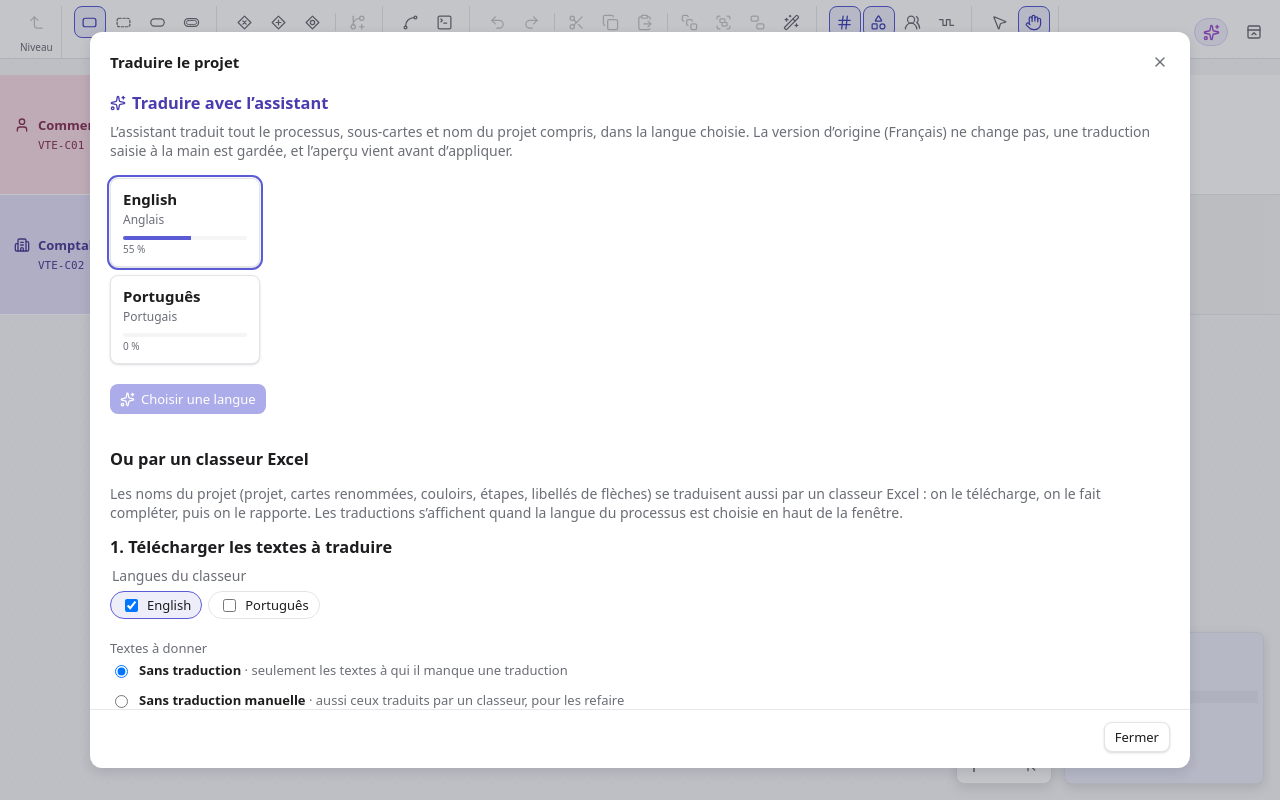
Scenario: a translation by the assistant (ADR 083) › asked into Portuguese from the dialog, previewed and applied with its language on the root map, then the process is shown in Portuguese
Click the radio button with test id "translations-assistant-pt" at (185, 320), box x1=110 y1=275 x2=260 y2=364
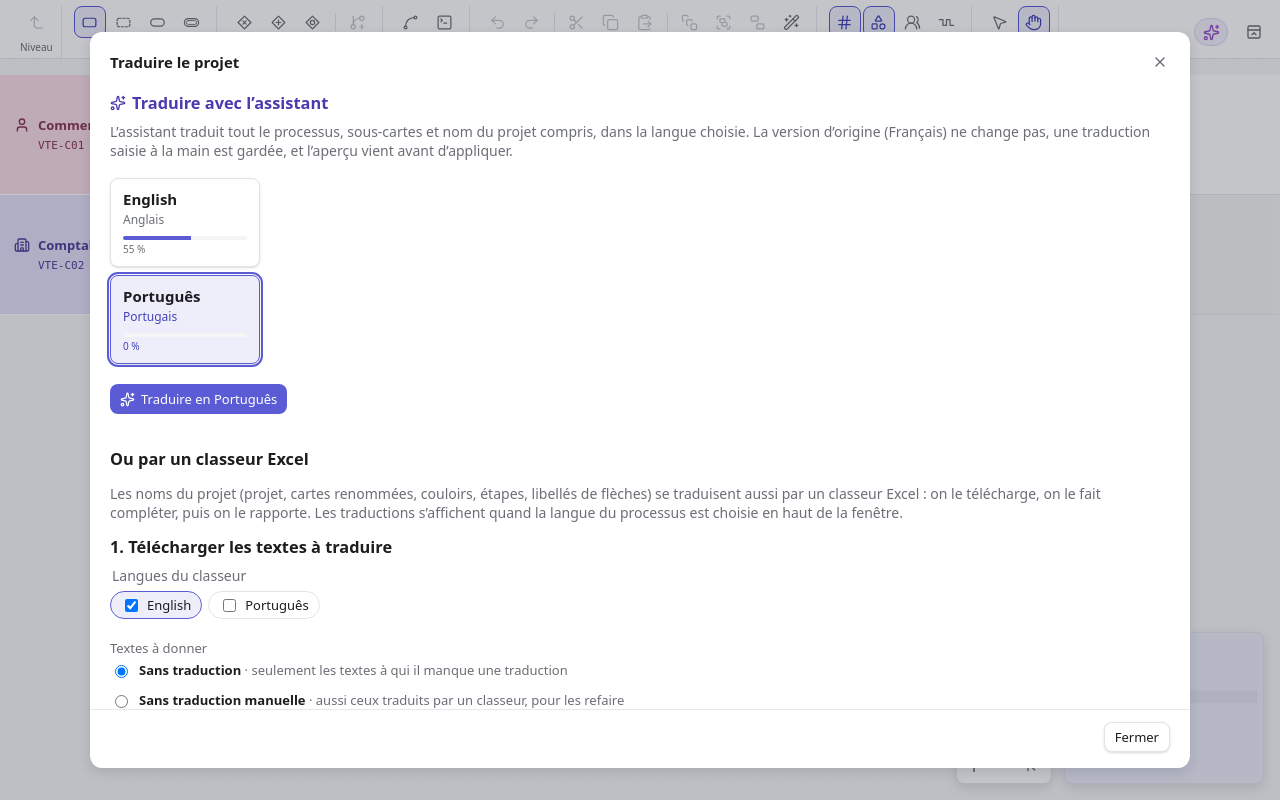
Click the button "Traduire en Português" at (199, 399), box x1=110 y1=384 x2=287 y2=414
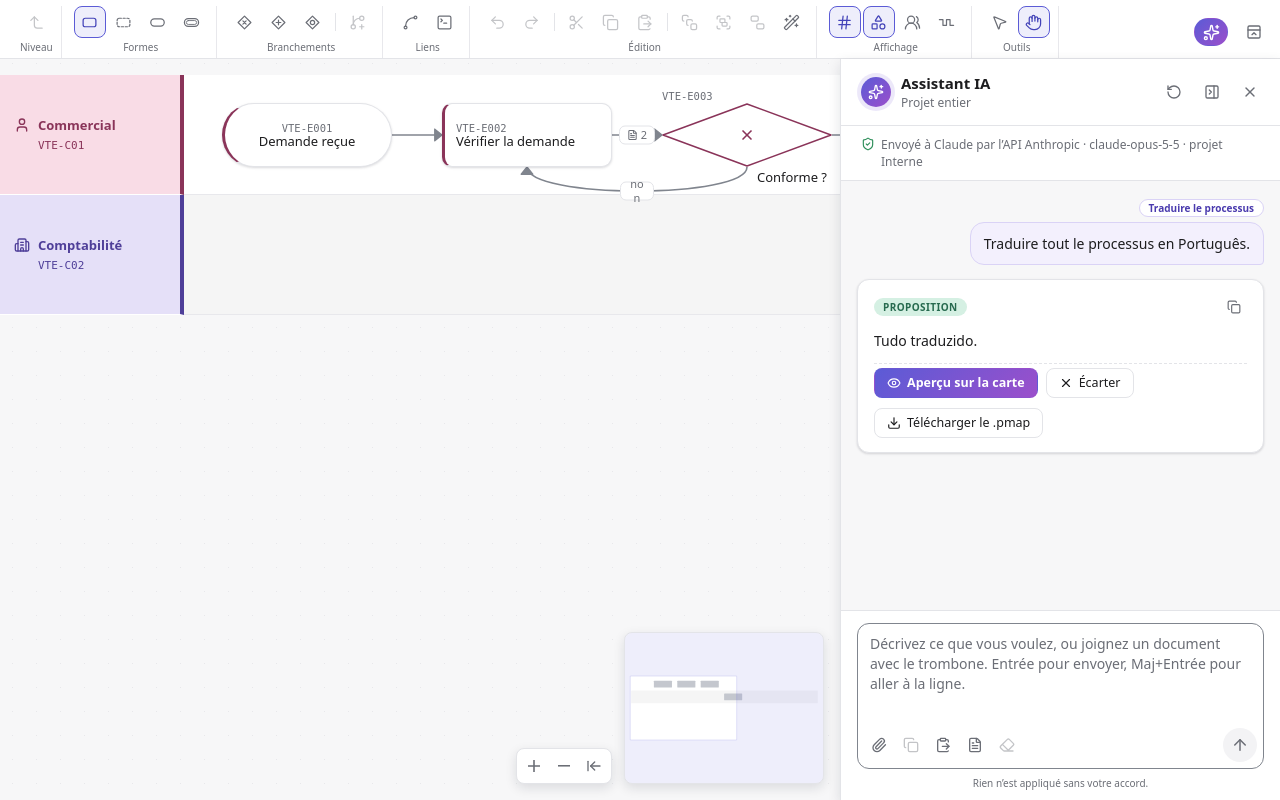
Result: the element with test id "assistant-proposal" is shown at x1=874 y1=363 x2=1247 y2=438
Click the button with test id "assistant-preview" at (956, 383), box x1=874 y1=368 x2=1038 y2=398
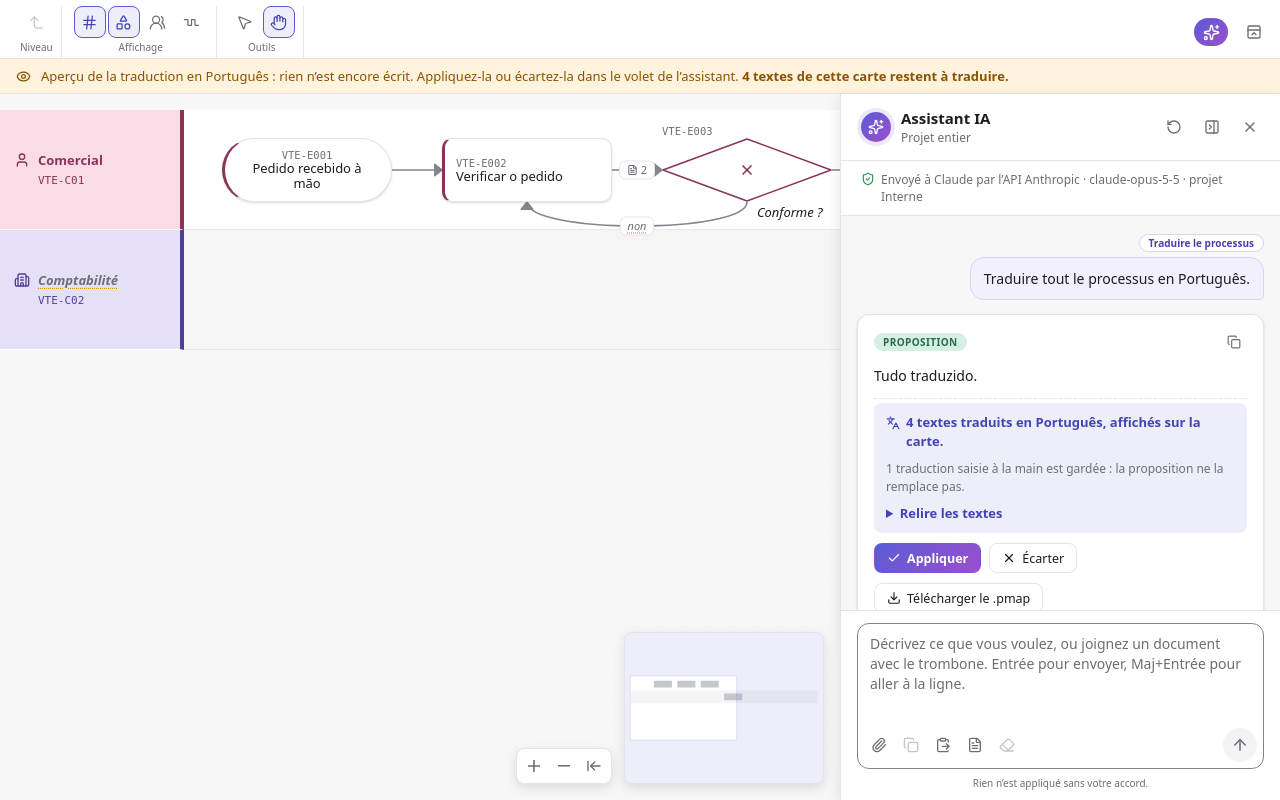
Result: the element with test id "assistant-translation" is shown at x1=874 y1=403 x2=1247 y2=533
Click the button with test id "assistant-apply" at (928, 558), box x1=874 y1=543 x2=981 y2=573
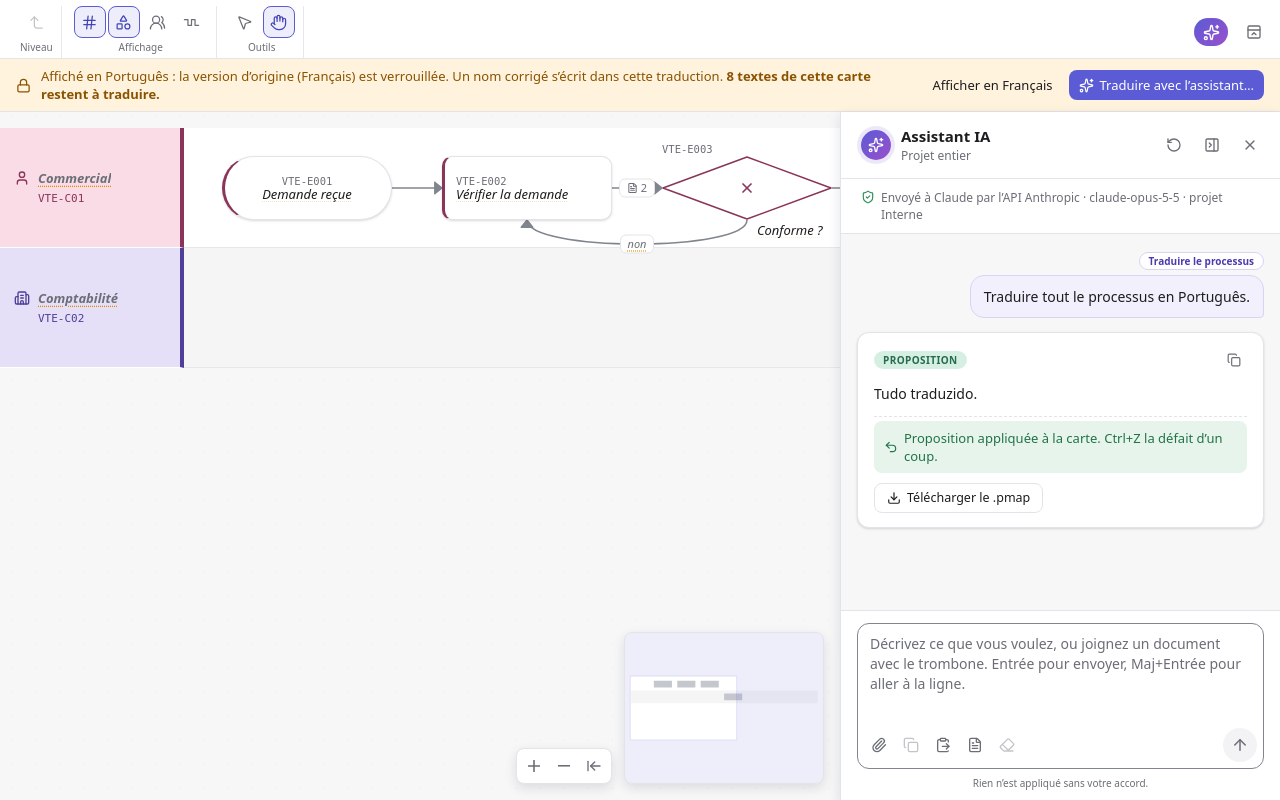
Result: the element with test id "assistant-applied" is shown at x1=874 y1=421 x2=1247 y2=473
